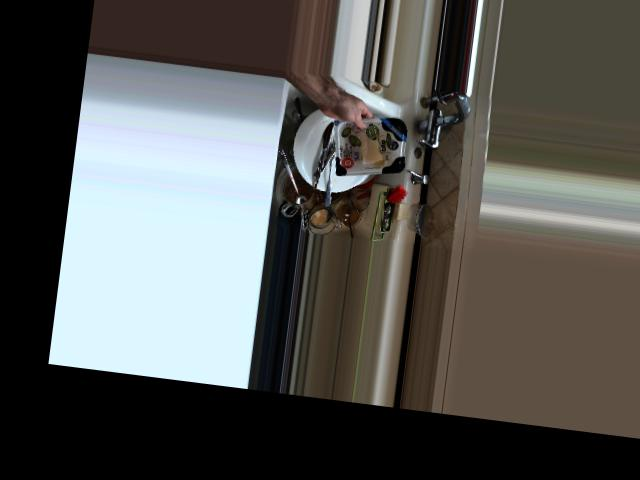cheese: (317, 90, 418, 182)
